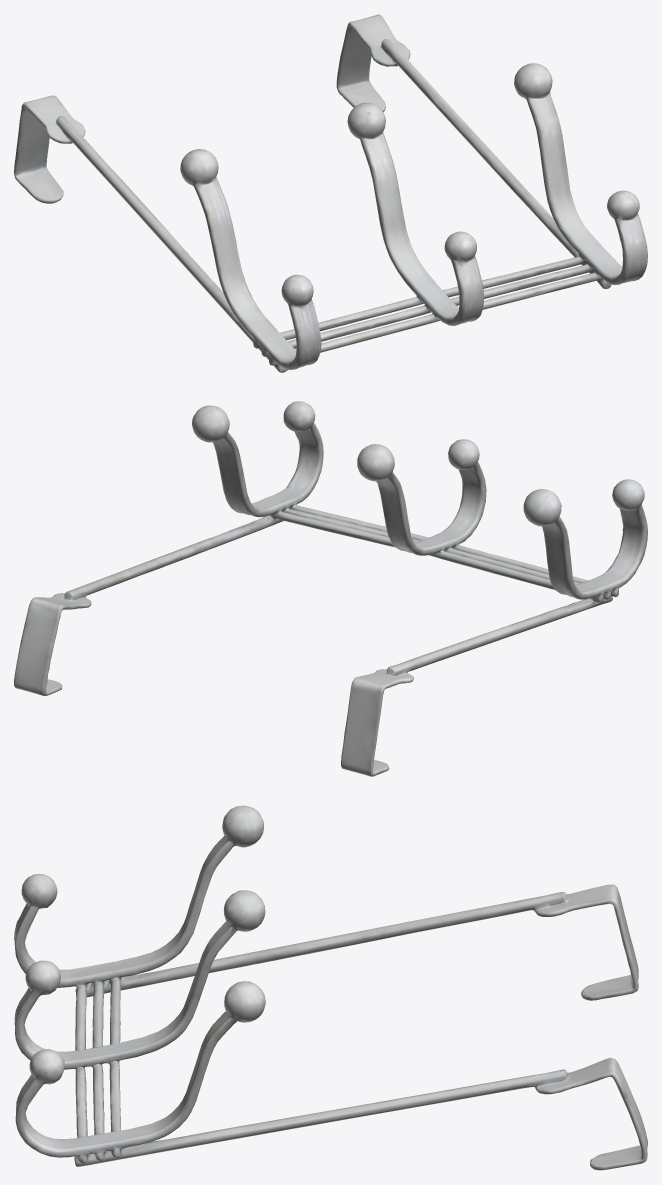
Rendered from InterDesign_Over_Door.glb.
The picture shows the model from 3 angles, top to bottom: view 1: azimuth 30°, elevation 25°; view 2: azimuth 150°, elevation 25°; view 3: azimuth 270°, elevation 25°; orthographic projection. The views are drawn at different scales.
Visible parts, largest first — view 1: InterDesign_Over_Door; view 2: InterDesign_Over_Door; view 3: InterDesign_Over_Door.
Boxes of the visible parts, bbox=[...] form: InterDesign_Over_Door: bbox=[14, 14, 647, 372]; InterDesign_Over_Door: bbox=[14, 401, 647, 776]; InterDesign_Over_Door: bbox=[14, 805, 647, 1170].
Size of the model in its own units: 0.2151 by 0.097 by 0.2912.
Materials: 1 (1 with a texture image).
